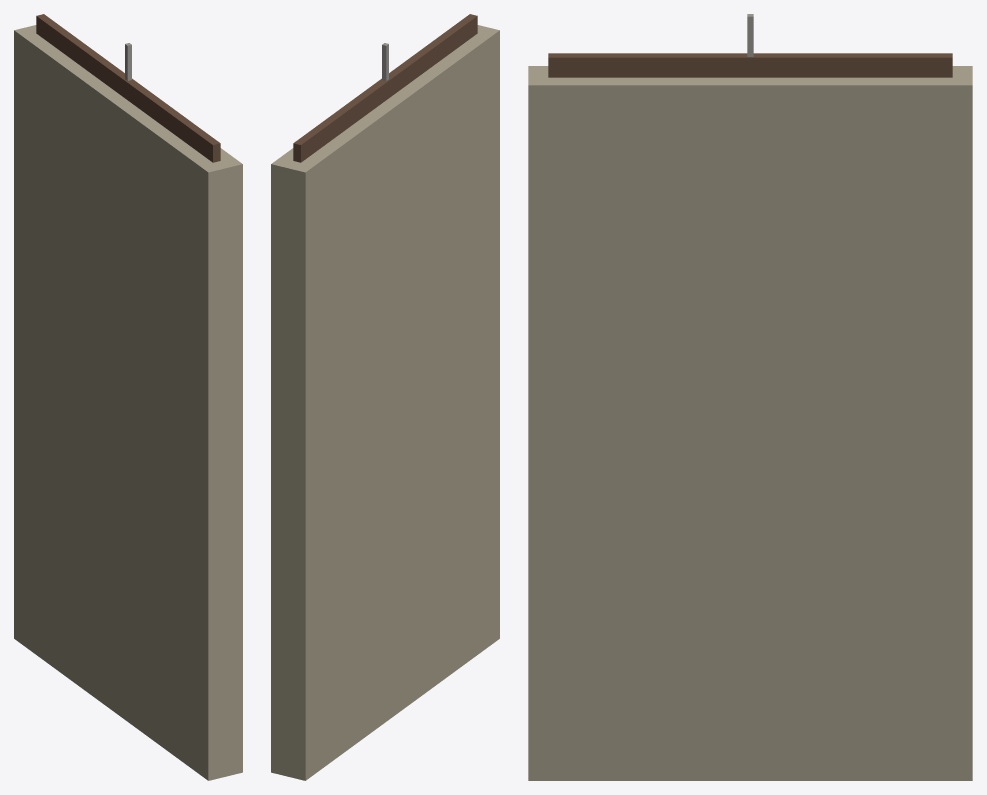
File: work-shirt-hung.glb
3 views of the same model, side by side, from view 1: azimuth 30°, elevation 25°; view 2: azimuth 150°, elevation 25°; view 3: azimuth 270°, elevation 25° (orthographic). The views are drawn at different scales.
Parts seen in each view (by area): view 1: plastic-light, wood; view 2: plastic-light, wood; view 3: plastic-light, wood.
Boxes of the visible parts, left/top/right/bottom form: plastic-light: left=14, top=25, right=242, bottom=780; wood: left=36, top=14, right=220, bottom=162; plastic-light: left=271, top=25, right=499, bottom=780; wood: left=293, top=14, right=477, bottom=162; plastic-light: left=528, top=66, right=972, bottom=780; wood: left=548, top=53, right=952, bottom=77.
Size of the model in its own units: 0.045 by 0.826 by 0.44.
